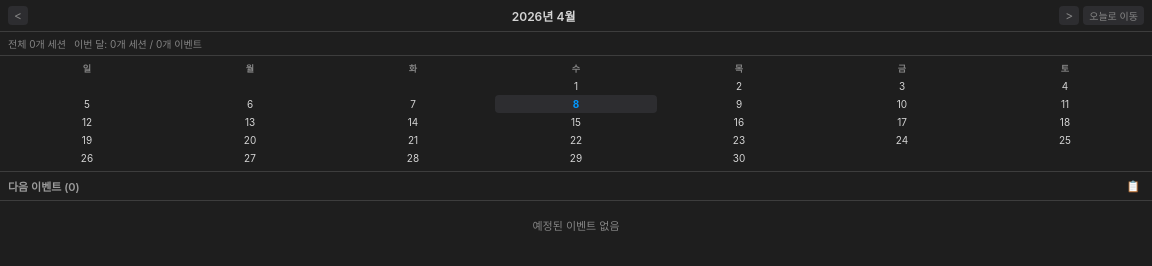
Test case: CalendarPanel › > 버튼 클릭 시 다음 달로 이동한다
Click the button ">". click: point(1069, 16)
box: [1059,6,1079,25]
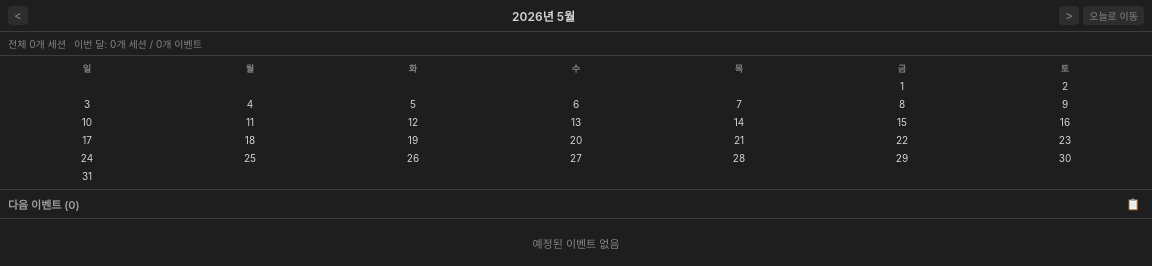
Result: the text "2026년 5월" is shown at [512,9,575,24]
